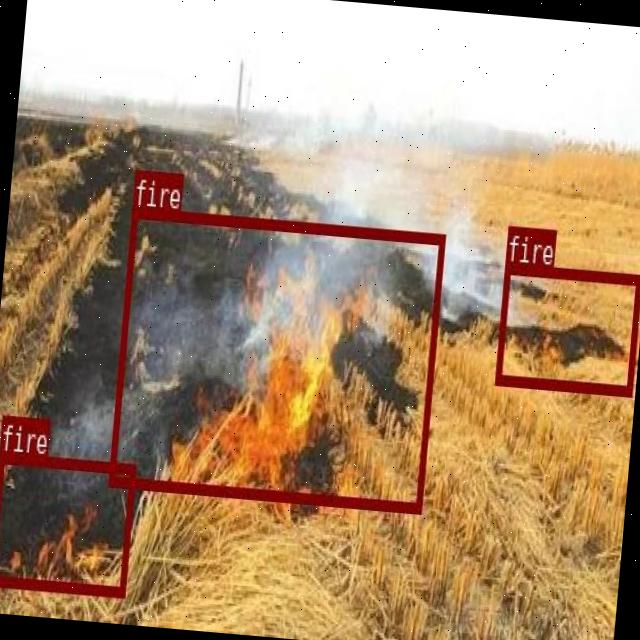fire: (108, 206, 445, 512), (0, 451, 135, 593), (494, 263, 640, 394)
